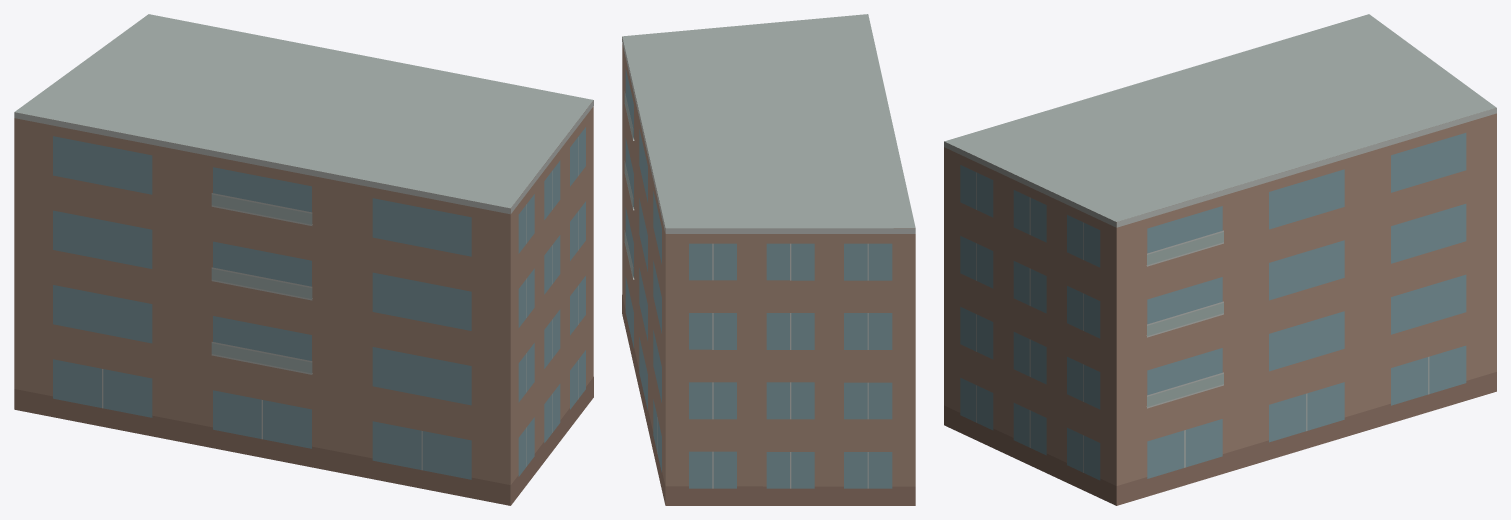
The model's file is survey-upis-32584948.glb.
The picture shows the model from 3 angles, left to right: view 1: azimuth 30°, elevation 25°; view 2: azimuth 150°, elevation 25°; view 3: azimuth 270°, elevation 25°; orthographic projection. The views are drawn at different scales.
Visible parts, largest first — view 1: survey-upis-32584948.tmp; view 2: survey-upis-32584948.tmp; view 3: survey-upis-32584948.tmp.
Part boxes in pixels (bbox=[...]): survey-upis-32584948.tmp: bbox=[14, 14, 593, 505]; survey-upis-32584948.tmp: bbox=[622, 14, 915, 505]; survey-upis-32584948.tmp: bbox=[944, 14, 1496, 505].
Bounding box in the file's own units: 19.2 × 12.2 × 21.54.
